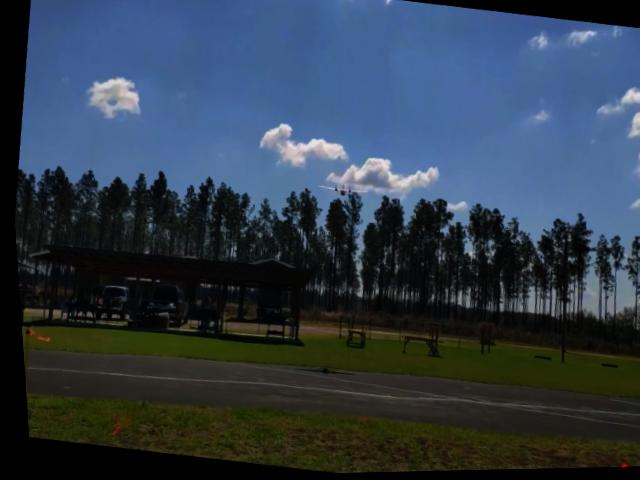plane: (317, 182, 366, 200)
